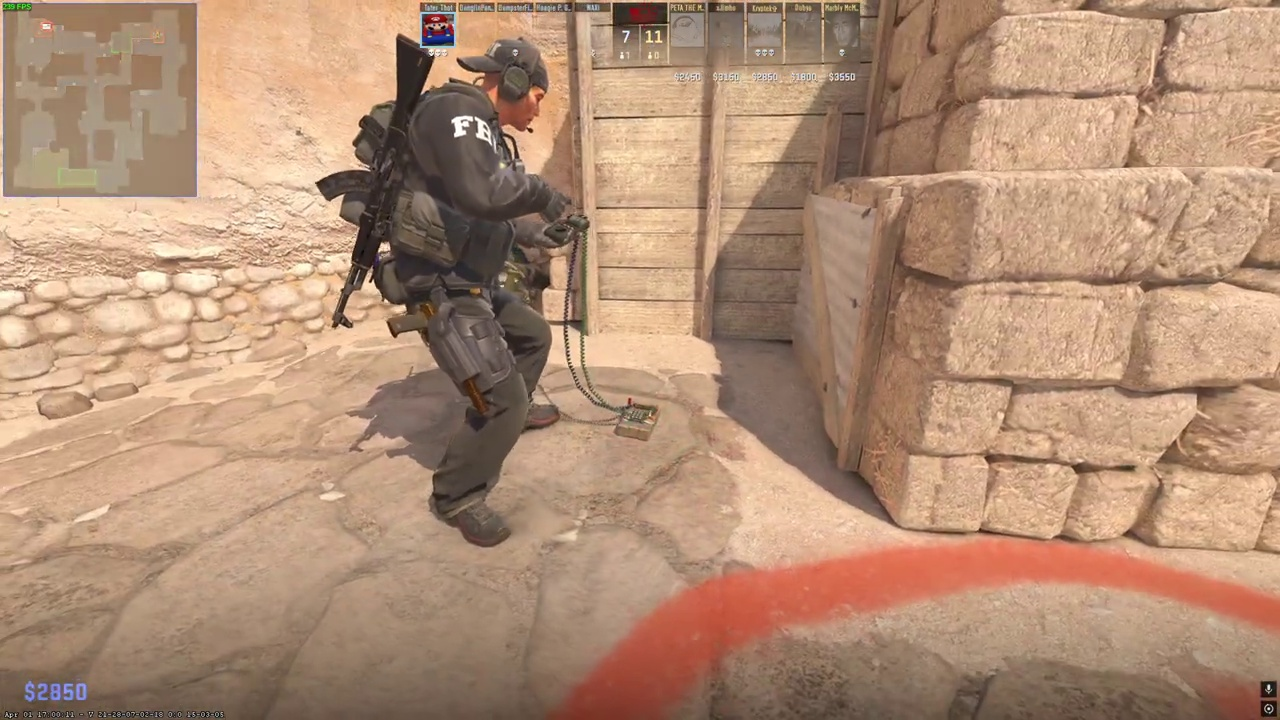CT: (357, 36, 583, 548)
